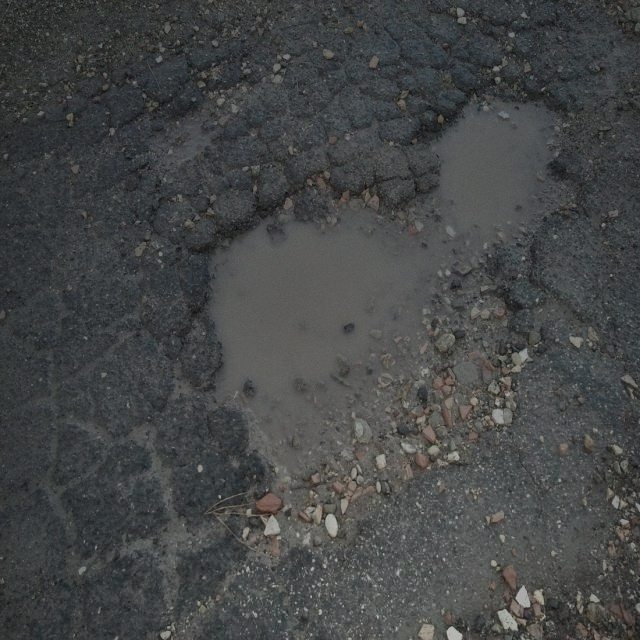pothole: (186, 78, 572, 550), (145, 66, 251, 195)
